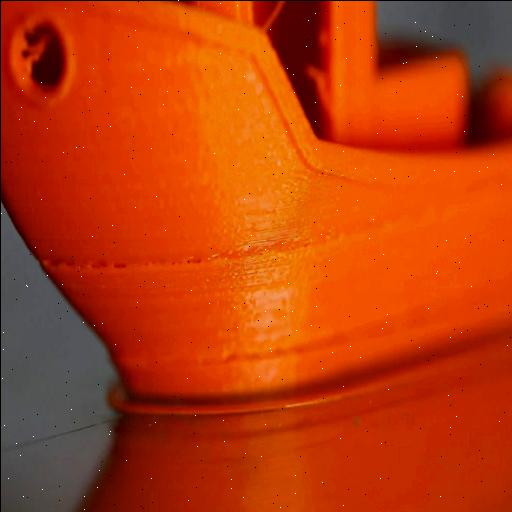cracks: (26, 228, 228, 290)
